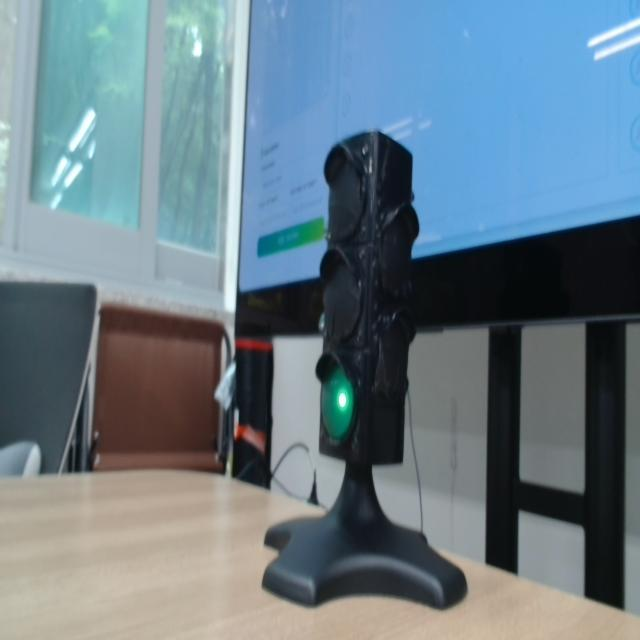green_light: (321, 364, 355, 442)
